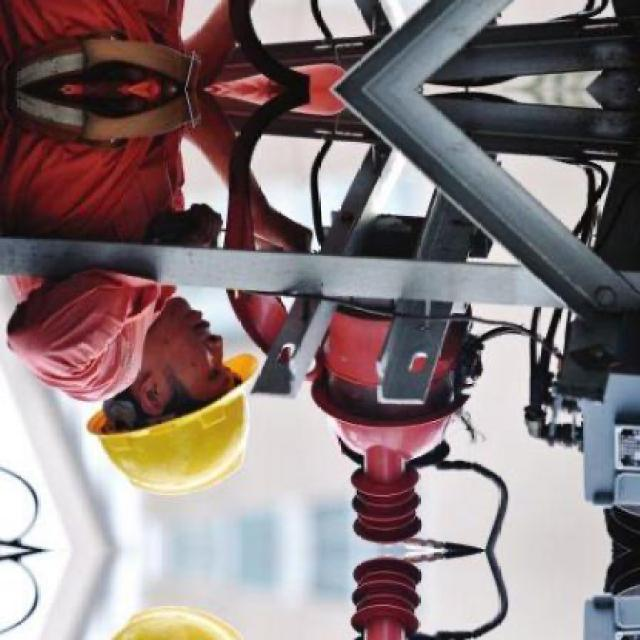con casco: (52, 292, 256, 532)
